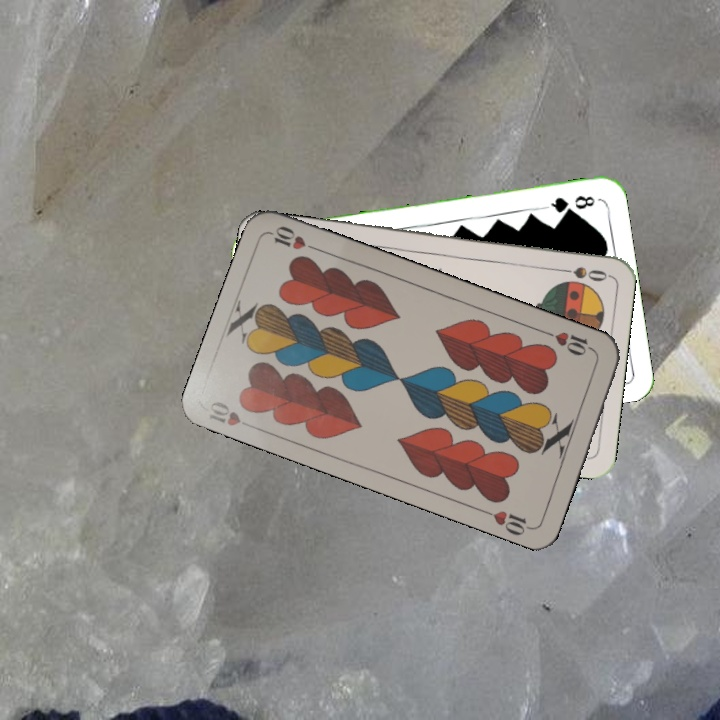G8: (541, 191, 598, 215)
H10: (204, 397, 260, 433), (541, 327, 598, 359)
SO: (551, 262, 610, 284)
